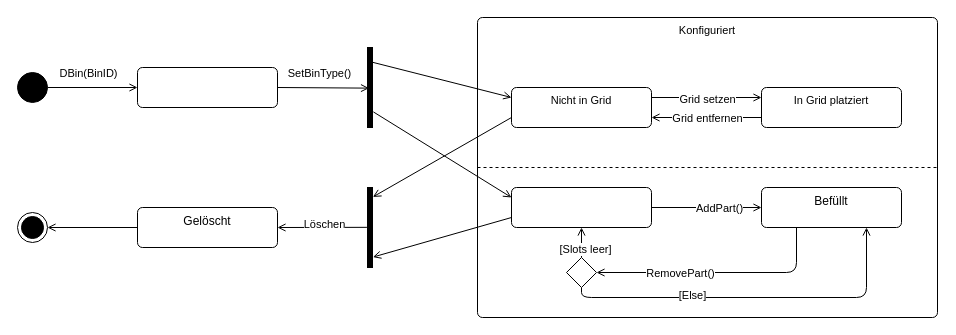
The diagram is 956 pixels wide and 335 high, and some of its shapes have lost their labels. The box of each missing label's shape, as (x1, y1, x2, y2) in pixels:
BinType nicht gesetzt: (136, 66, 278, 108)
Leer: (510, 186, 652, 228)
